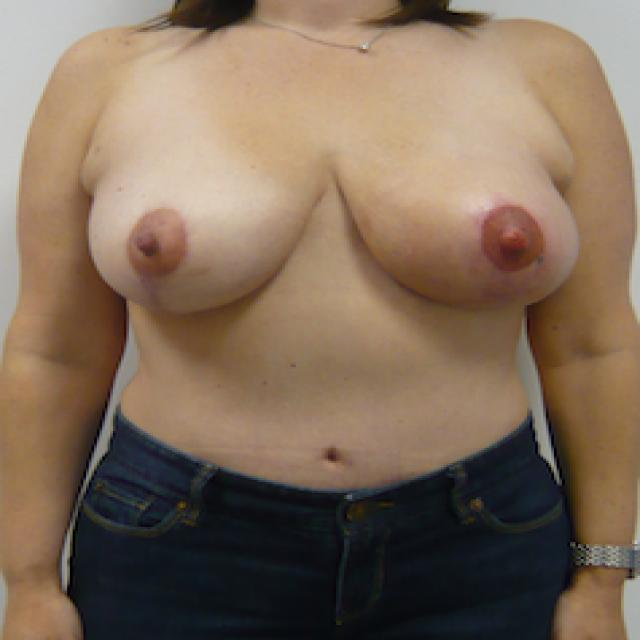Seno herido: (330, 102, 592, 329), (77, 102, 324, 329)
